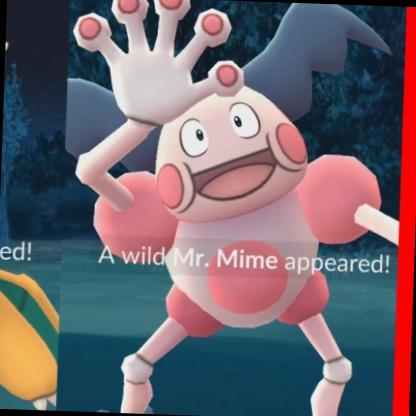Mr. Mime: (1, 7, 416, 413)
